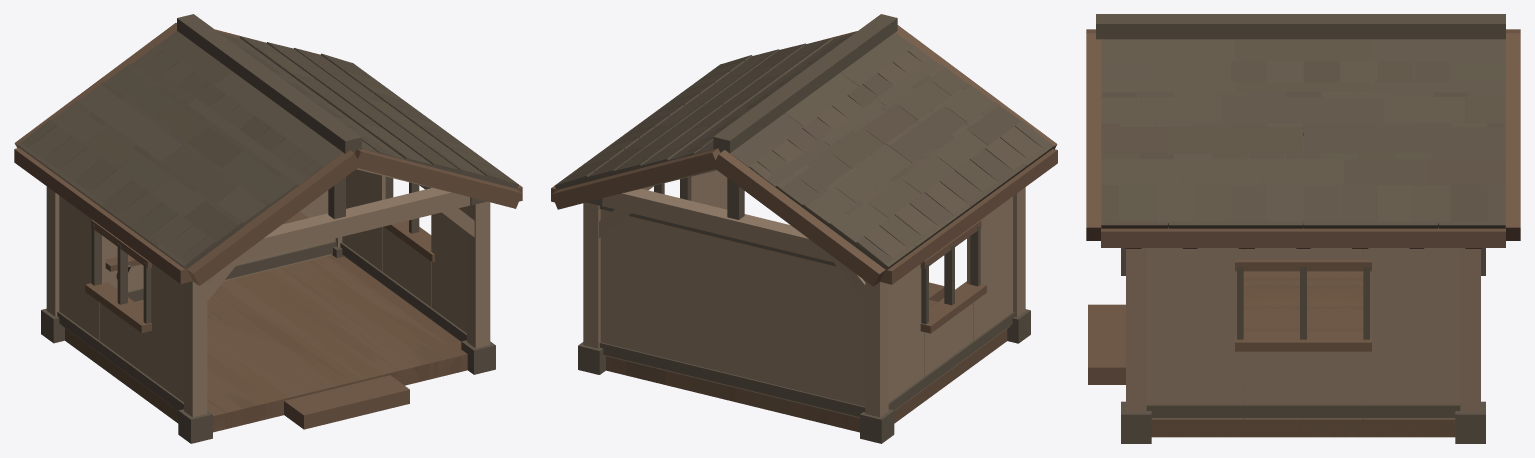
Rendered from building_coastal_shelter_a.glb.
The picture shows the model from 3 angles, left to right: view 1: azimuth 30°, elevation 25°; view 2: azimuth 150°, elevation 25°; view 3: azimuth 270°, elevation 25°; orthographic projection. The views are drawn at different scales.
Visible parts, largest first — view 1: building_coastal_shelter_a_LOD0_hut, building_coastal_shelter_a_LOD1_hut, building_coastal_shelter_a_LOD2_hut; view 2: building_coastal_shelter_a_LOD0_hut, building_coastal_shelter_a_LOD1_hut, building_coastal_shelter_a_LOD2_hut; view 3: building_coastal_shelter_a_LOD0_hut, building_coastal_shelter_a_LOD1_hut, building_coastal_shelter_a_LOD2_hut.
Boxes of the visible parts, x1,y1,x2,y2 form: building_coastal_shelter_a_LOD0_hut: [14, 14, 522, 443]; building_coastal_shelter_a_LOD1_hut: [14, 14, 522, 443]; building_coastal_shelter_a_LOD2_hut: [18, 14, 518, 431]; building_coastal_shelter_a_LOD0_hut: [551, 15, 1057, 442]; building_coastal_shelter_a_LOD1_hut: [551, 15, 1057, 443]; building_coastal_shelter_a_LOD2_hut: [554, 14, 1053, 431]; building_coastal_shelter_a_LOD0_hut: [1086, 15, 1520, 443]; building_coastal_shelter_a_LOD1_hut: [1086, 14, 1520, 443]; building_coastal_shelter_a_LOD2_hut: [1096, 14, 1505, 419].
Size of the model in its own units: 5.32 by 4.09 by 4.81.
